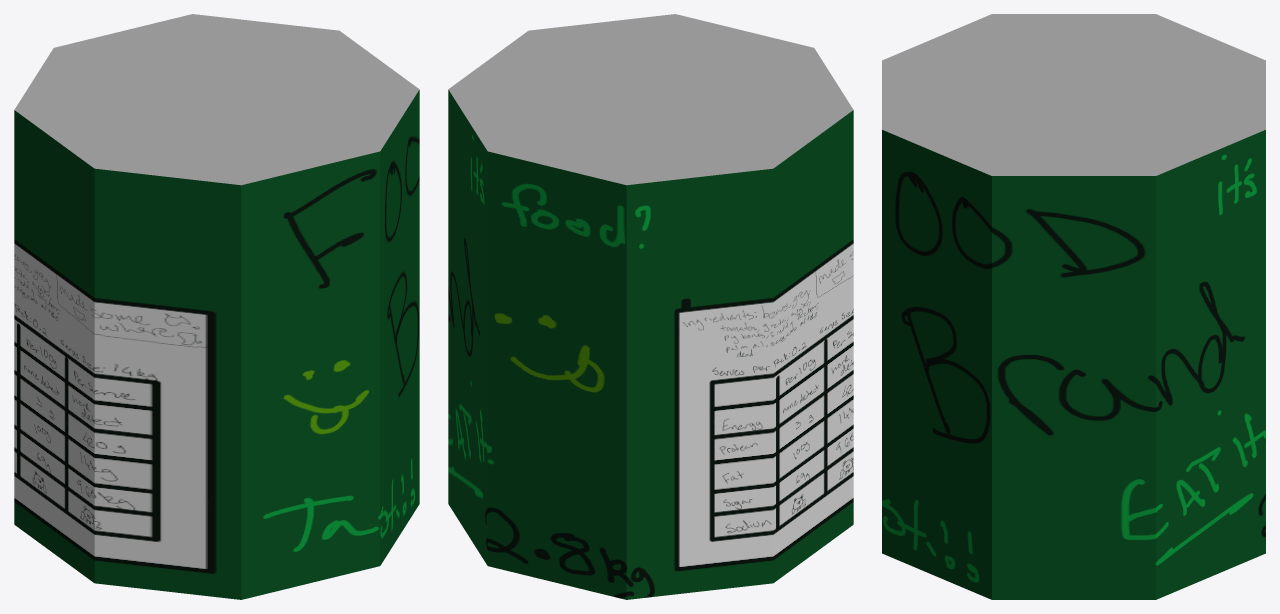
The model's file is tinLarge.fbx.
The picture shows the model from 3 angles, left to right: view 1: azimuth 30°, elevation 25°; view 2: azimuth 150°, elevation 25°; view 3: azimuth 270°, elevation 25°; orthographic projection. The views are drawn at different scales.
Visible parts, largest first — view 1: Cube; view 2: Cube; view 3: Cube.
Part boxes in pixels (<box>): Cube: <box>14,14,419,599</box>; Cube: <box>448,14,853,599</box>; Cube: <box>882,14,1265,599</box>.
Bounding box in the file's own units: 255 × 311 × 255.
2 materials, 1 textured.
